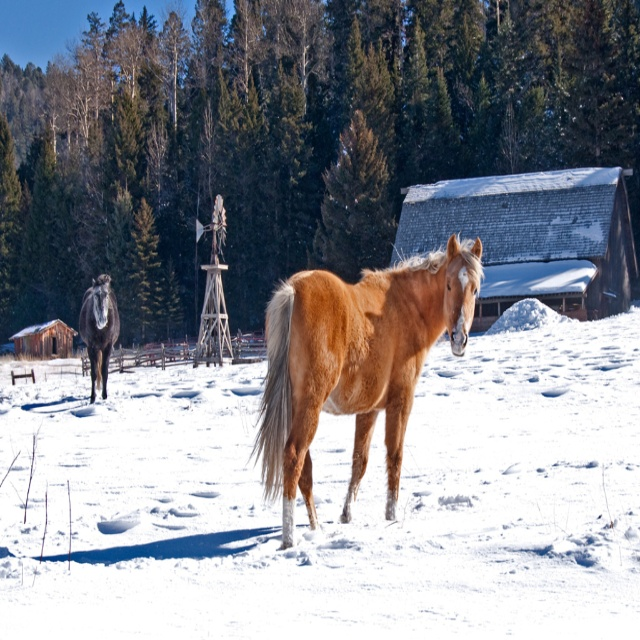Horse: (247, 229, 484, 553), (79, 275, 118, 405)
